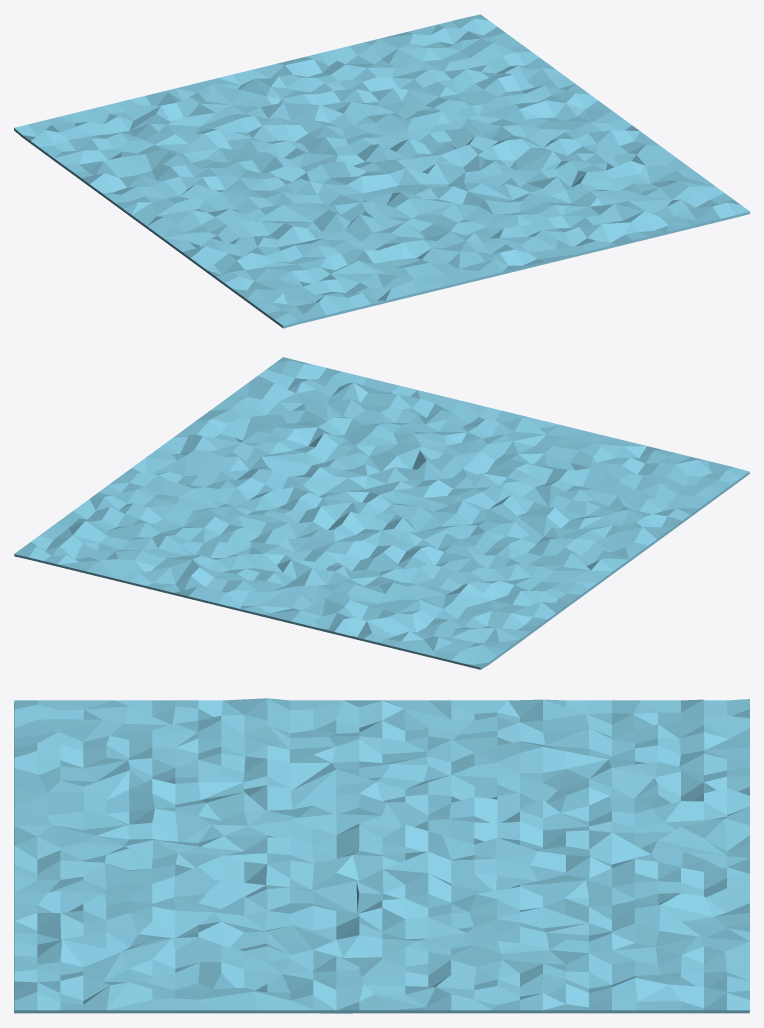
The model's file is sea-flat.fbx.
The picture shows the model from 3 angles, top to bottom: view 1: azimuth 30°, elevation 25°; view 2: azimuth 150°, elevation 25°; view 3: azimuth 270°, elevation 25°; orthographic projection. The views are drawn at different scales.
Parts seen in each view (by area): view 1: Plane; view 2: Plane; view 3: Plane.
Boxes of the visible parts, left/top/right/bottom form: Plane: left=14, top=14, right=749, bottom=328; Plane: left=14, top=357, right=749, bottom=669; Plane: left=14, top=698, right=749, bottom=1013.
Size of the model in its own units: 200152 by 9865 by 200135.
